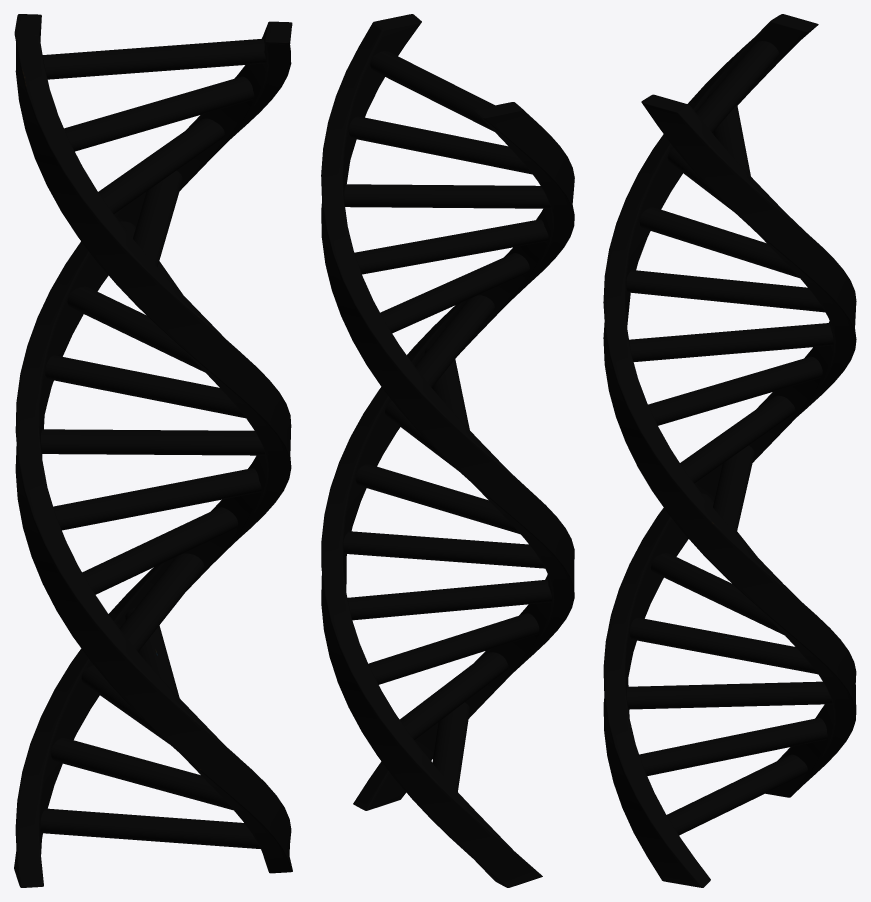
File: CoverPage2.PNG.glb
3 views of the same model, side by side, from view 1: azimuth 30°, elevation 25°; view 2: azimuth 150°, elevation 25°; view 3: azimuth 270°, elevation 25° (orthographic). The views are drawn at different scales.
Visible parts, largest first — view 1: node_id61; view 2: node_id61; view 3: node_id61.
Boxes of the visible parts, x1,y1,x2,y2 form: node_id61: [14, 14, 292, 887]; node_id61: [321, 14, 574, 887]; node_id61: [603, 14, 856, 887].
Size of the model in its own units: 0.0575 by 0.1937 by 0.0575.
Materials: 1 (1 with a texture image).
